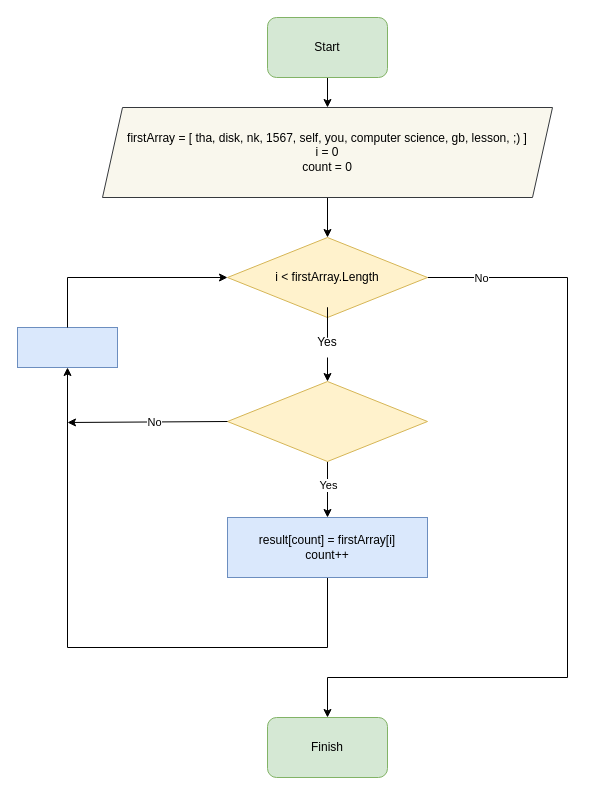
This 593x795 diagram has some shape labels left out. The shapes that lost their labels are listed below. From the top down, each one's centre as x and y in pixels, then its label:
At point 67,347: "i++".
At point 327,421: "firstArray[i].Length <= 3".
